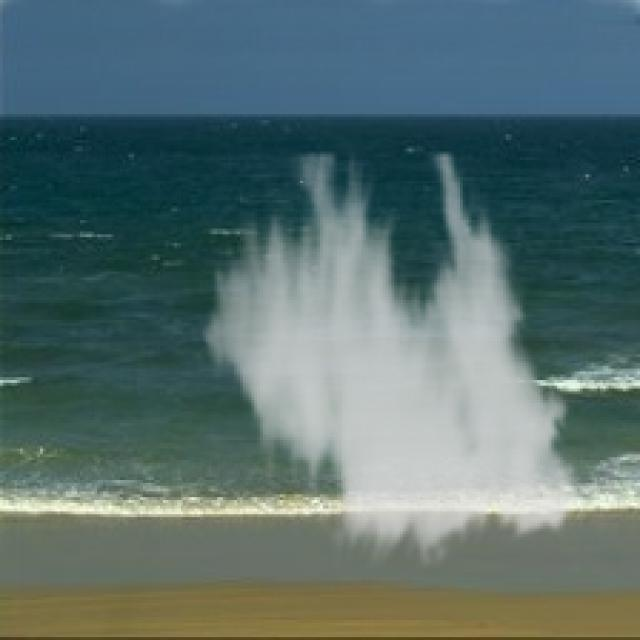smoke: (192, 152, 597, 568)
